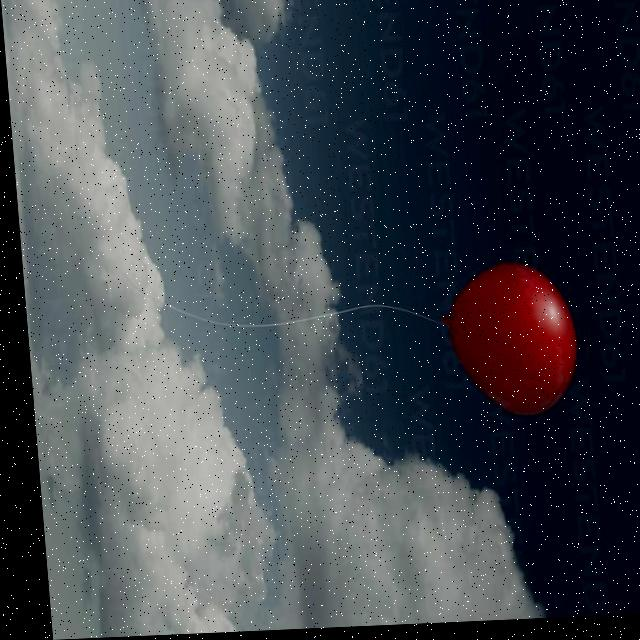balloon: (427, 246, 590, 429)
